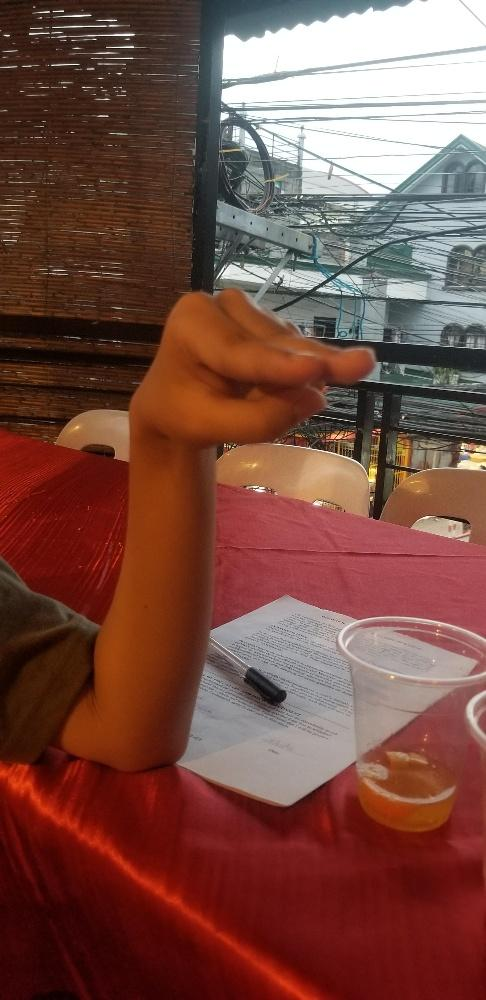n: (126, 285, 379, 446)
